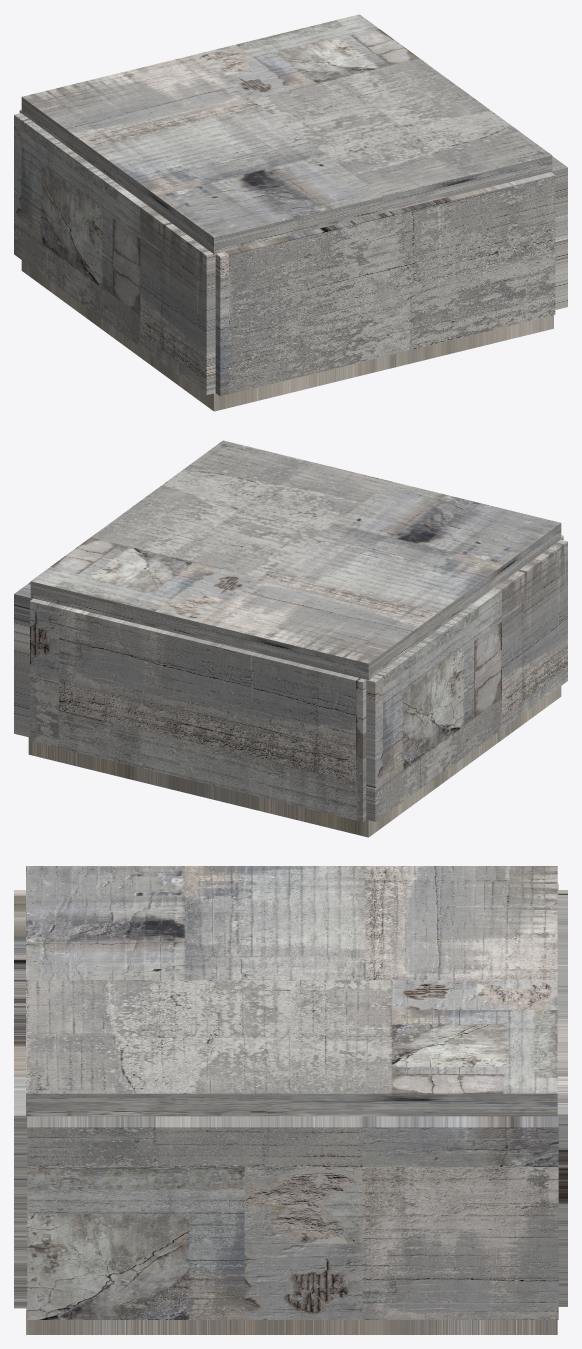
Rendered from garage.obj.
3 views of the same model, one above another, from view 1: azimuth 30°, elevation 25°; view 2: azimuth 150°, elevation 25°; view 3: azimuth 270°, elevation 25° (orthographic). The views are drawn at different scales.
Visible parts, largest first — view 1: Box024, Box003, Box005, Box001, Box004; view 2: Box024, Box002, Box005, Box001, Box004; view 3: Box024, Box004, Box001, Box003, Box002.
Boxes of the visible parts, x1,y1,x2,y2 form: Box024: (21,14,552,255); Box003: (215,172,555,396); Box005: (14,113,215,395); Box001: (21,260,553,411); Box004: (552,156,567,309); Box024: (30,440,561,679); Box002: (30,598,366,821); Box005: (366,539,567,821); Box001: (28,686,561,837); Box004: (14,582,32,737); Box024: (26,866,557,1118); Box004: (27,1115,558,1319); Box001: (26,1308,557,1334); Box003: (14,890,27,1308); Box002: (557,890,567,1306).
Size of the model in its own units: 10.84 by 4.98 by 10.42.
Materials: 3 (3 with a texture image).
